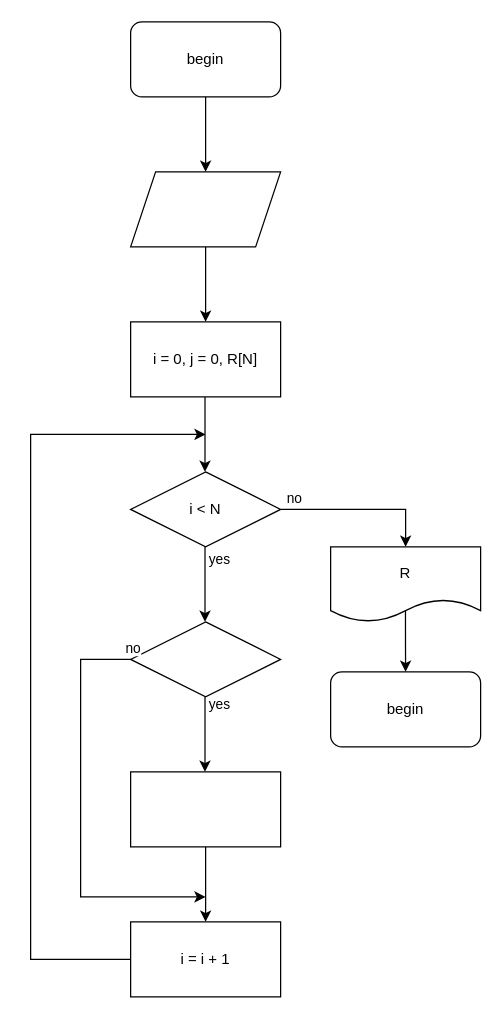
Some shapes in this 503 by 1019 pixel diagram are drawn without their labels. Each missing label, with the centre of its shape:
"M[i].Length <= 3" belongs at (205,659).
"N, M[N]" belongs at (205,209).
"R[j] = M[i], j = j + 1" belongs at (205,809).
